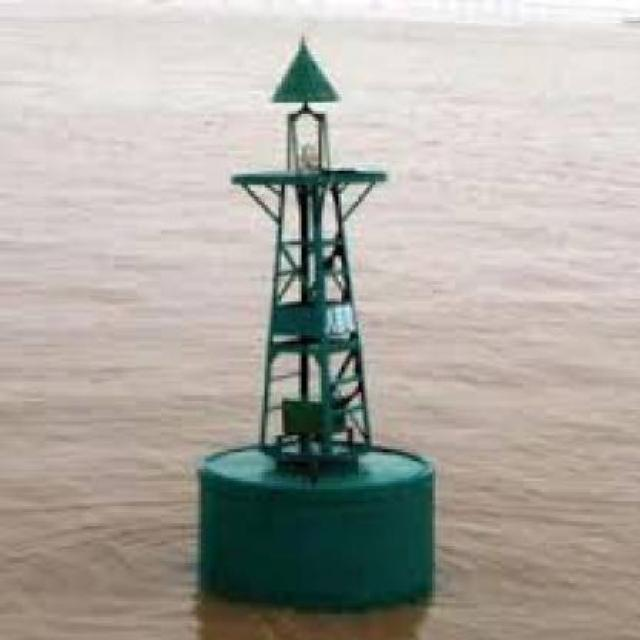buoy: (177, 24, 454, 621)
